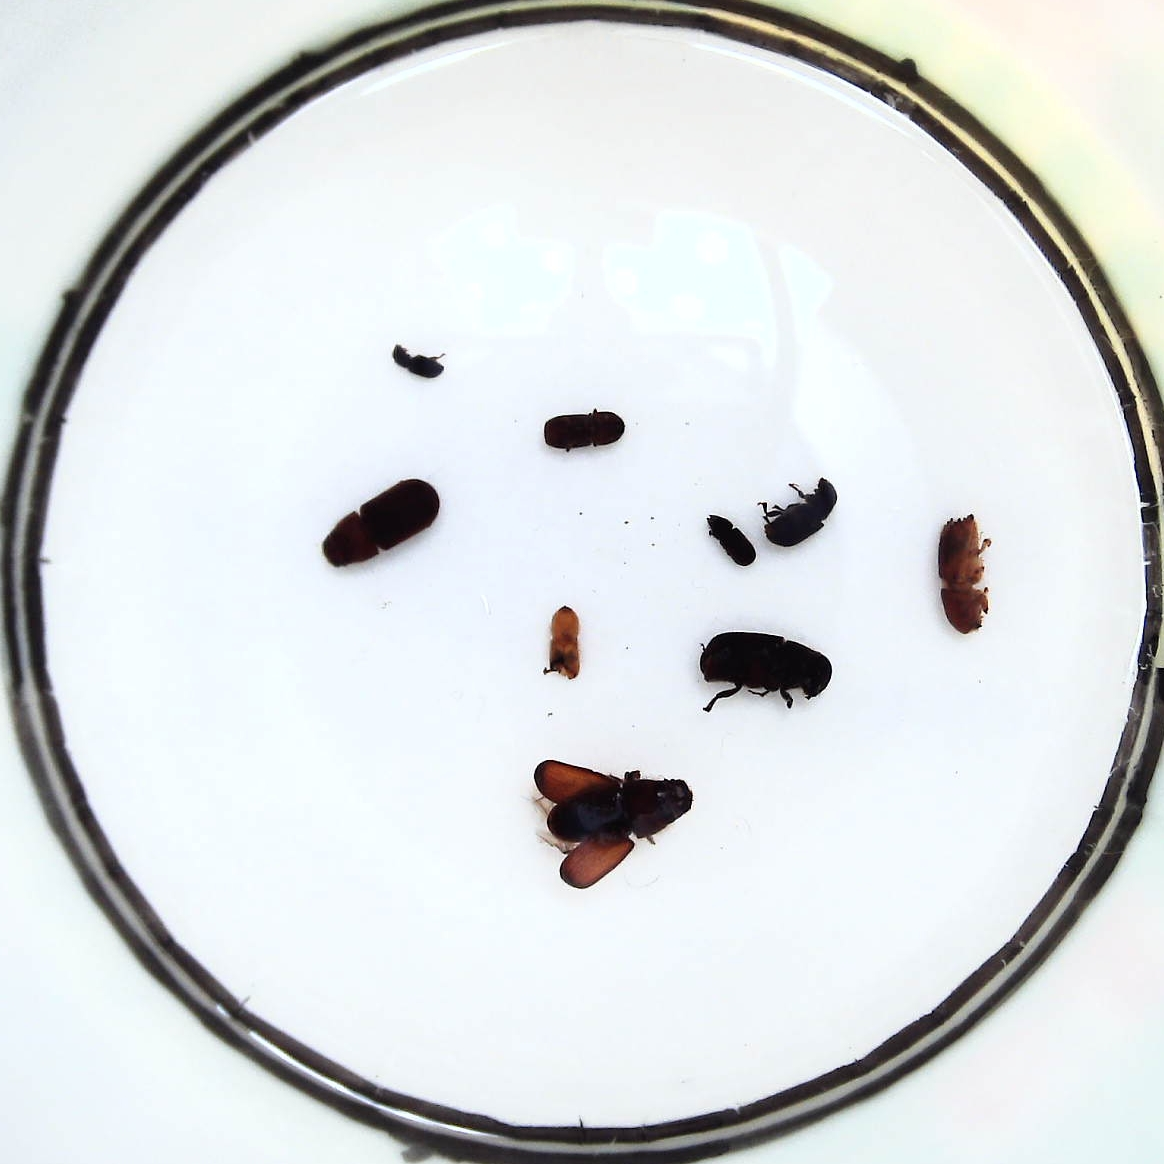Boerner: (937, 513, 989, 633)
Leconte: (535, 759, 693, 888), (321, 476, 440, 567), (700, 632, 832, 711)
acuminatus: (707, 515, 756, 566), (393, 344, 446, 379)
armandi: (762, 479, 837, 547), (546, 408, 624, 450)
coleoptera: (548, 604, 580, 679)
